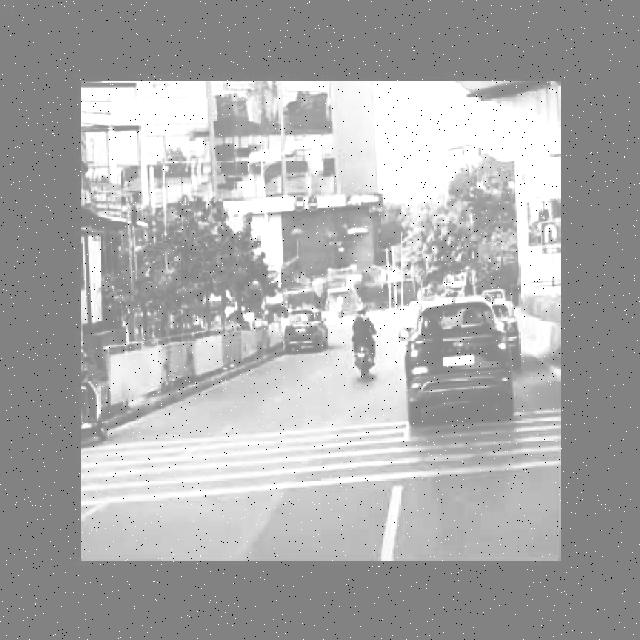Car: (392, 296, 545, 424), (282, 297, 334, 358)
